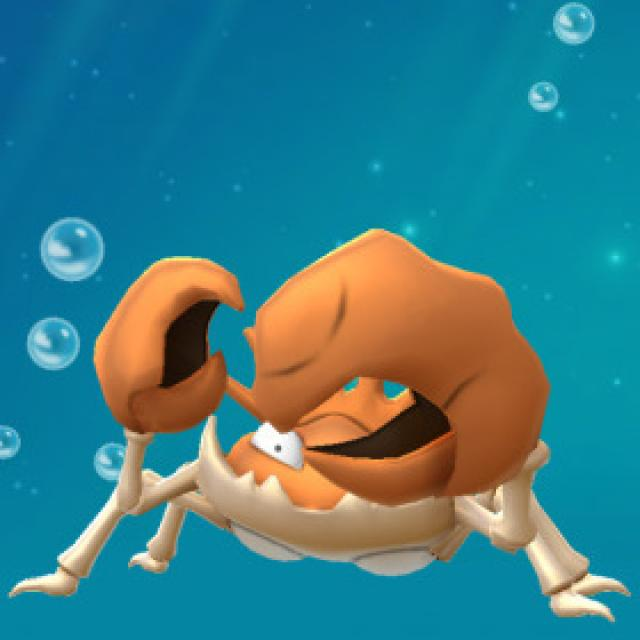Kingler: (81, 266, 565, 582)
